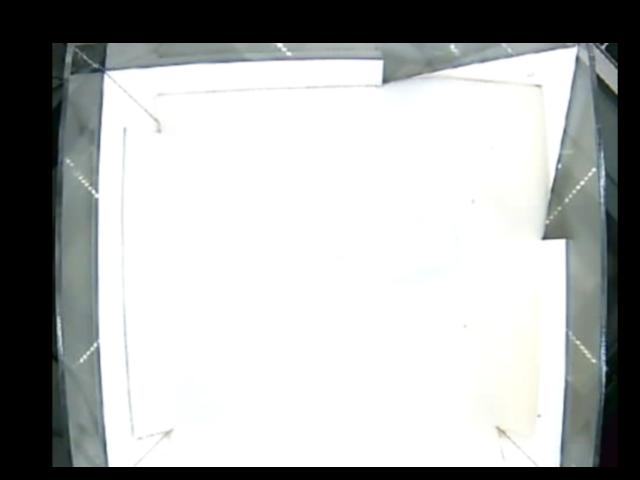Bottle: (311, 206, 459, 300)
